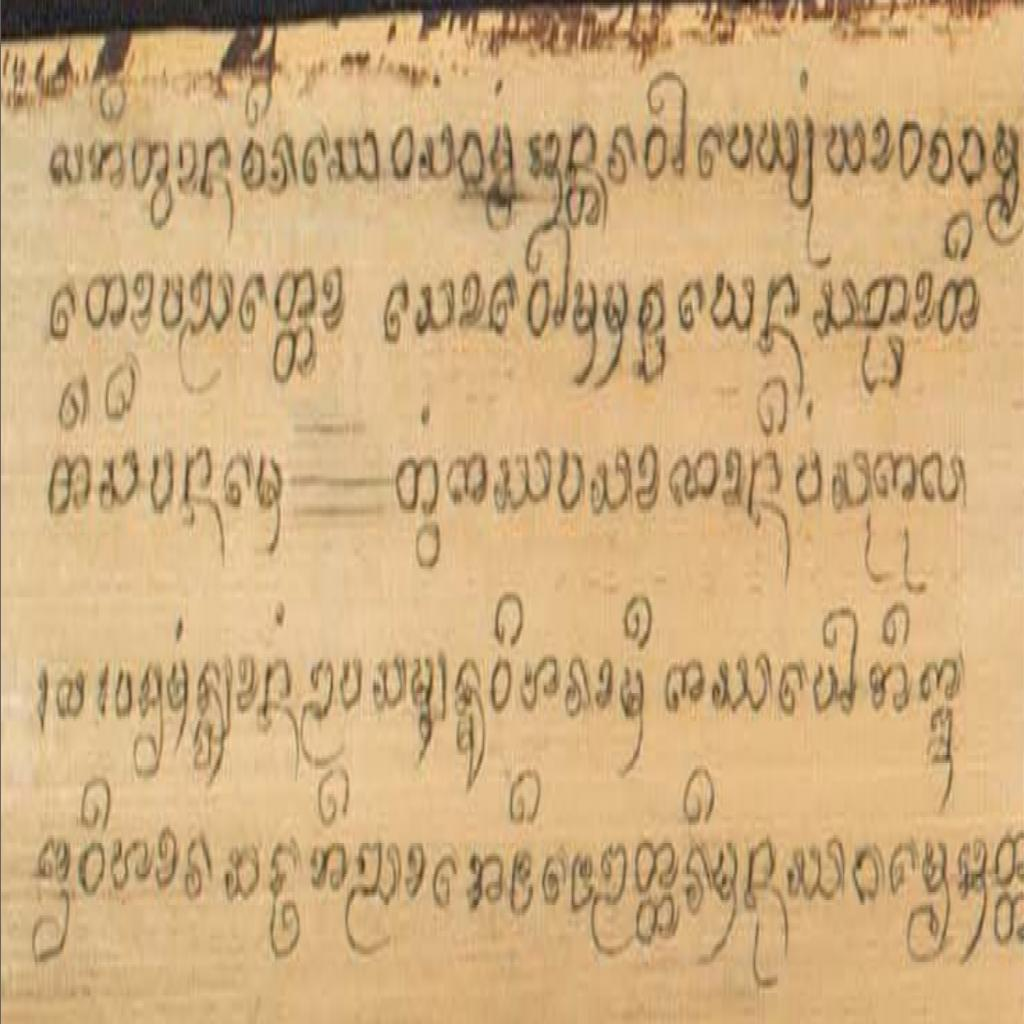LN012: (710, 648, 773, 723)
